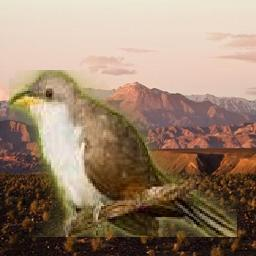Cuckoo: (9, 71, 237, 238)
